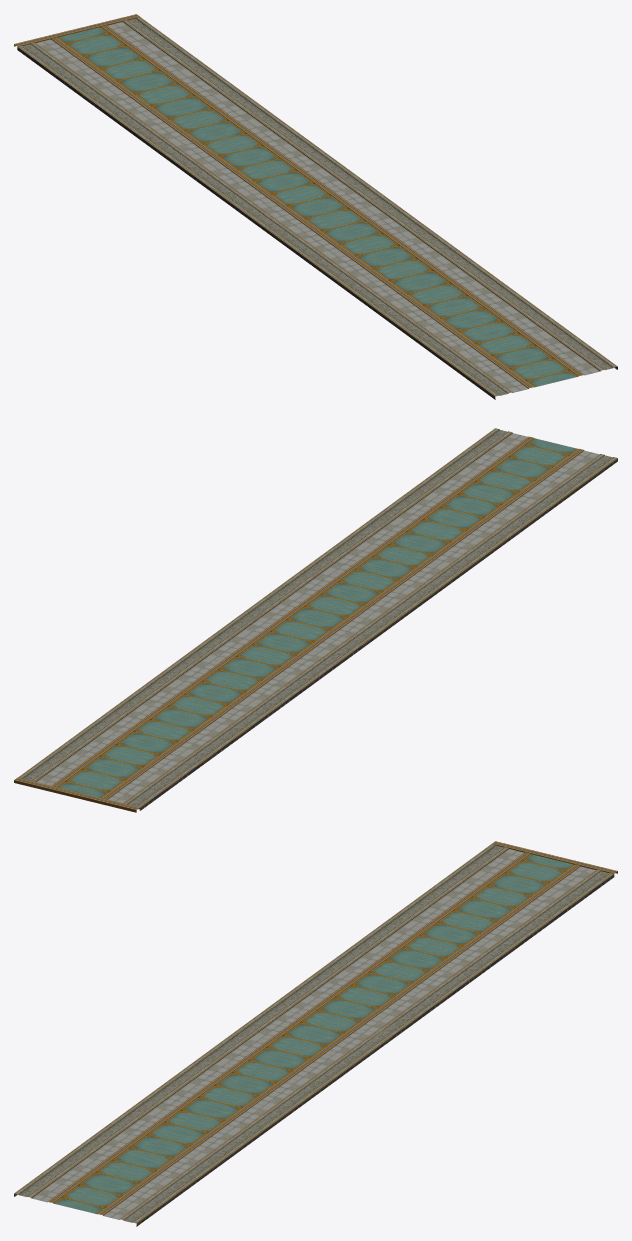
File: Yland1_dm_05 Yland1.FBX
3 views of the same model, one above another, from view 1: azimuth 30°, elevation 25°; view 2: azimuth 150°, elevation 25°; view 3: azimuth 330°, elevation 25° (orthographic).
Parts seen in each view (by area): view 1: Yland1_dm_05 Yland1; view 2: Yland1_dm_05 Yland1; view 3: Yland1_dm_05 Yland1.
Part boxes in pixels (x1,y1,x2,y2): Yland1_dm_05 Yland1: (14,14,617,399); Yland1_dm_05 Yland1: (14,428,617,812); Yland1_dm_05 Yland1: (14,841,617,1226).
Bounding box in the file's own units: 1241 × 33.59 × 8425.
